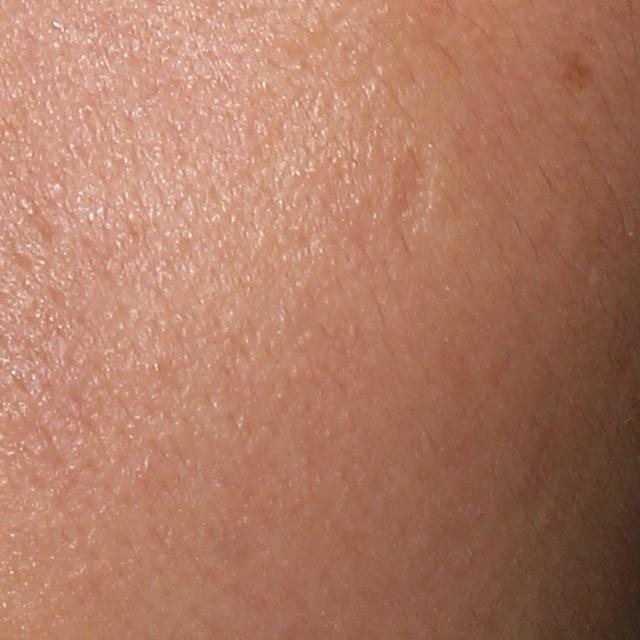atrophic_scar: (390, 132, 445, 249)
melasma: (555, 47, 596, 92)
